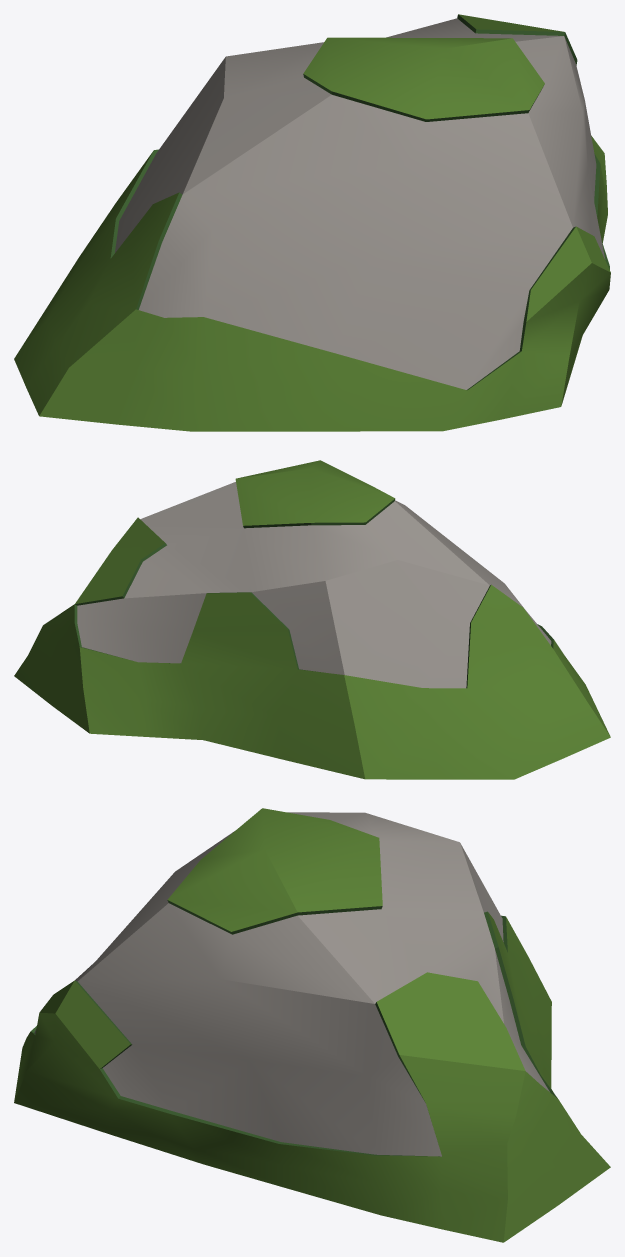
The model's file is RockSmallMoss_01.glb.
The picture shows the model from 3 angles, top to bottom: view 1: azimuth 30°, elevation 25°; view 2: azimuth 150°, elevation 25°; view 3: azimuth 270°, elevation 25°; orthographic projection. The views are drawn at different scales.
Visible parts, largest first — view 1: RockSmallMoss_01; view 2: RockSmallMoss_01; view 3: RockSmallMoss_01.
Boxes of the visible parts, x1,y1,x2,y2 form: RockSmallMoss_01: (14, 14, 610, 431); RockSmallMoss_01: (14, 460, 610, 779); RockSmallMoss_01: (14, 808, 610, 1242).
Size of what is drawn, in the model's own units: 0.8711 by 0.339 by 0.6643.
Materials: 1 (1 with a texture image).
